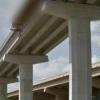Bridge: (2, 1, 74, 85)
